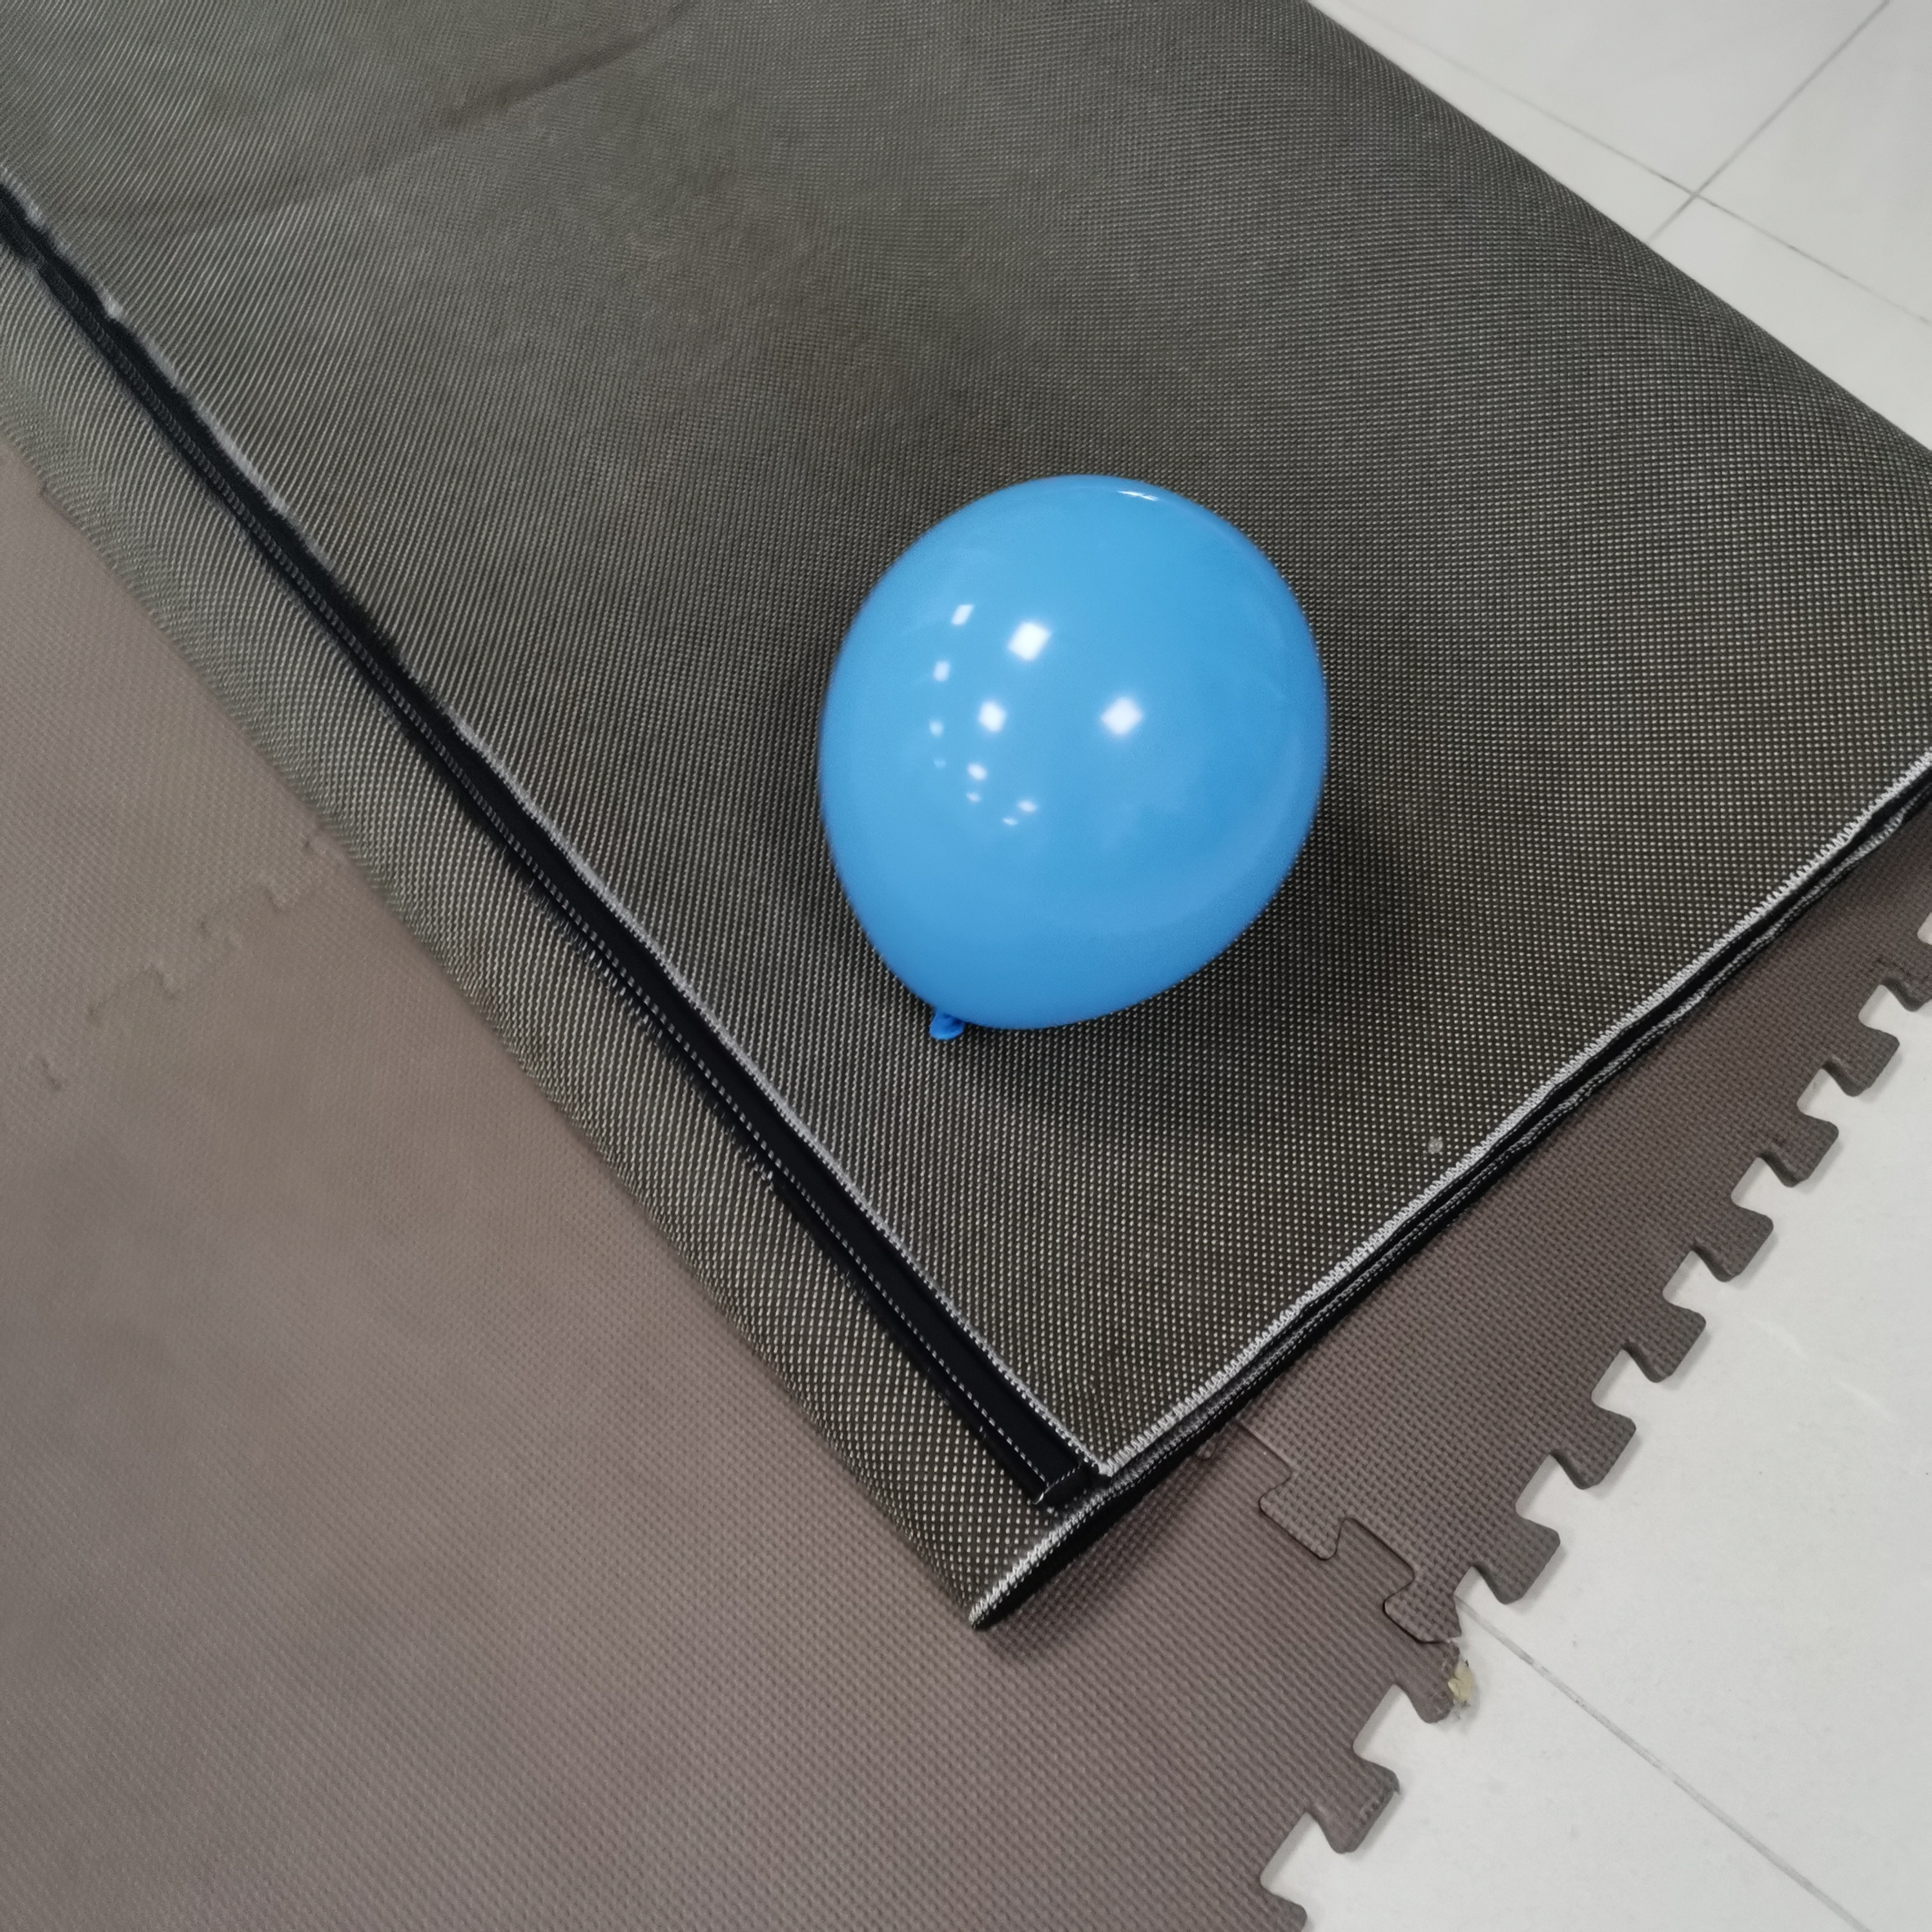balloon: (819, 474, 1338, 1049)
